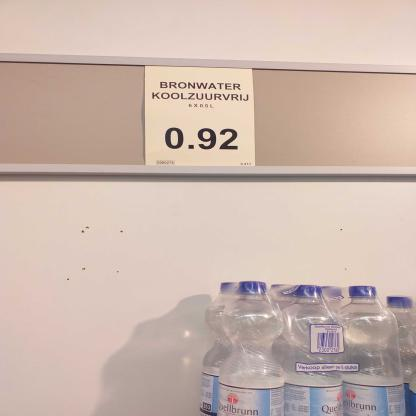prtg: (145, 67, 257, 168)
